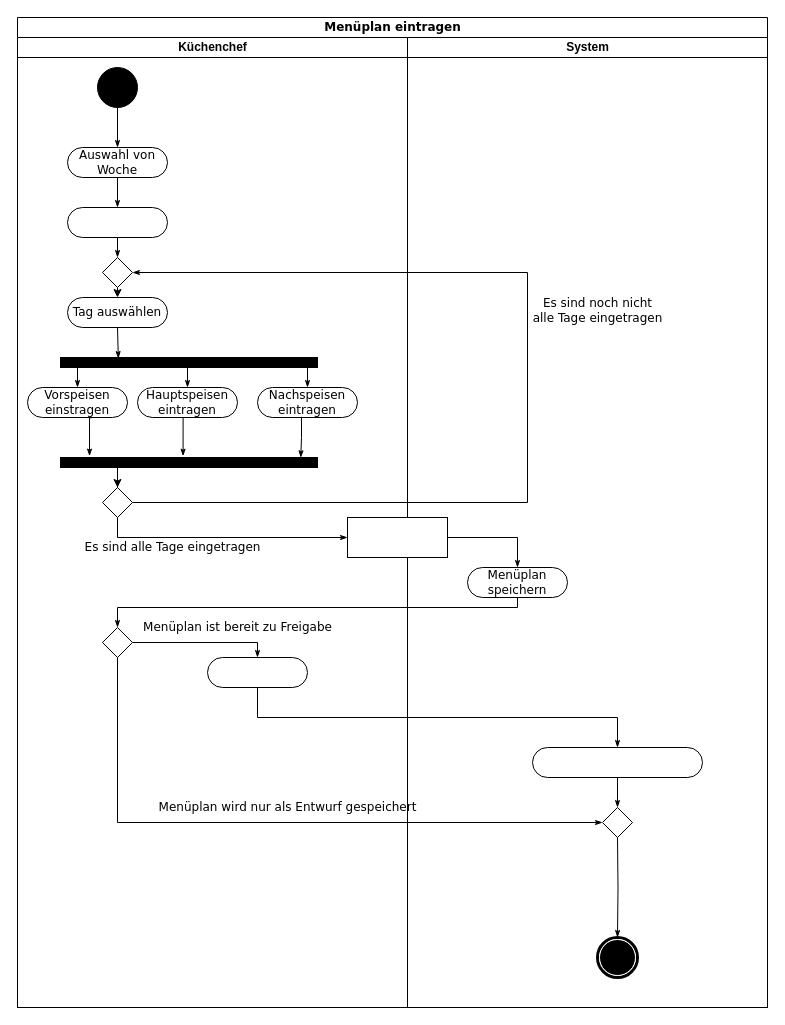
Some shapes in this 785 by 1025 pixel diagram are drawn without their labels. The centre of each missing label's shape, as x and y in pixels:
"Freigabe anfordern" goes at (257,672).
"Freigebenden Küchenchef benachrichtigen" goes at (617,762).
"Menüplan" goes at (397,537).
"Tage eingeben" goes at (117,222).
